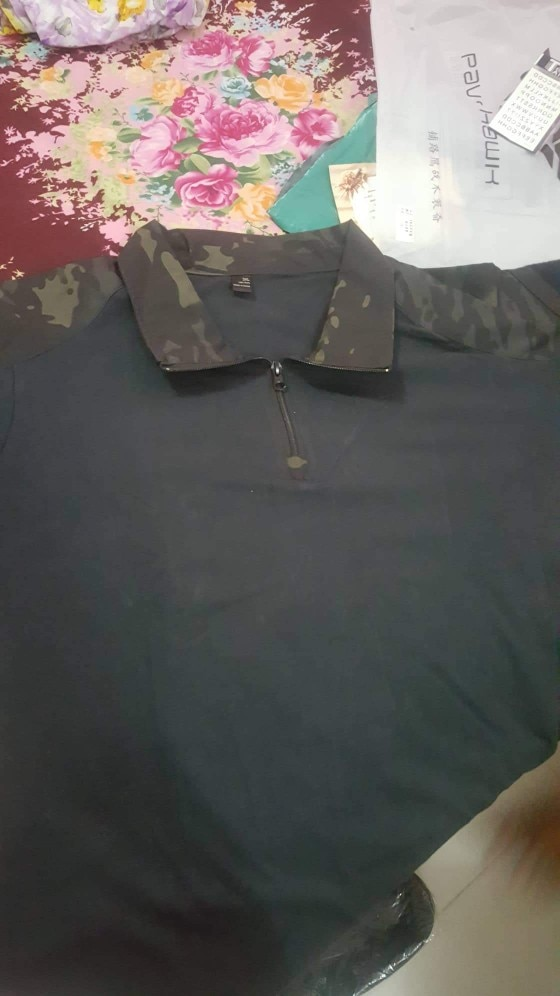shirts: (45, 225, 560, 978)
